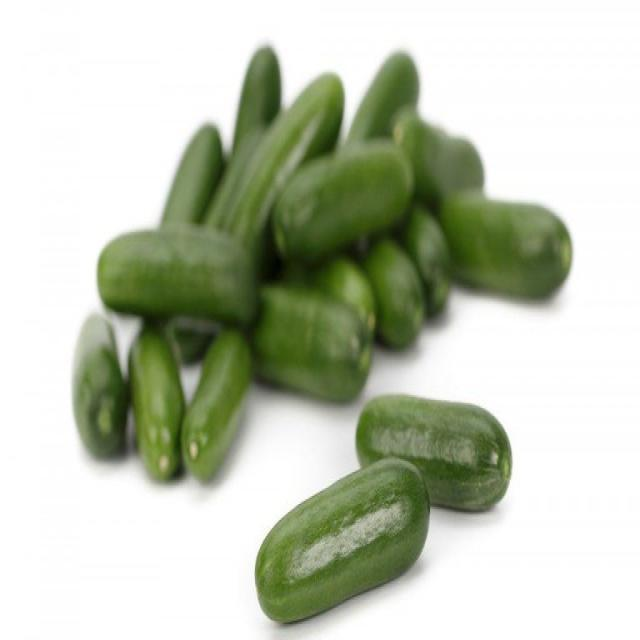cucumber: (253, 455, 426, 624), (356, 385, 513, 509)
